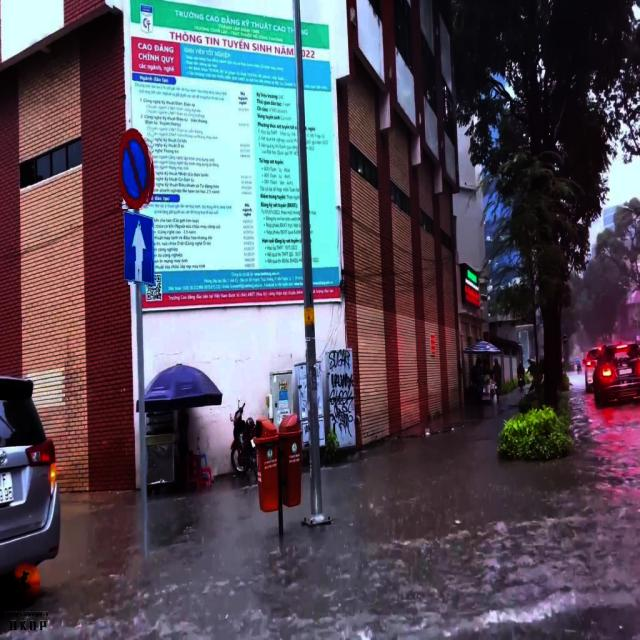cam_do_xe: (119, 128, 154, 210)
duong_mot_chieu: (124, 211, 154, 285)
